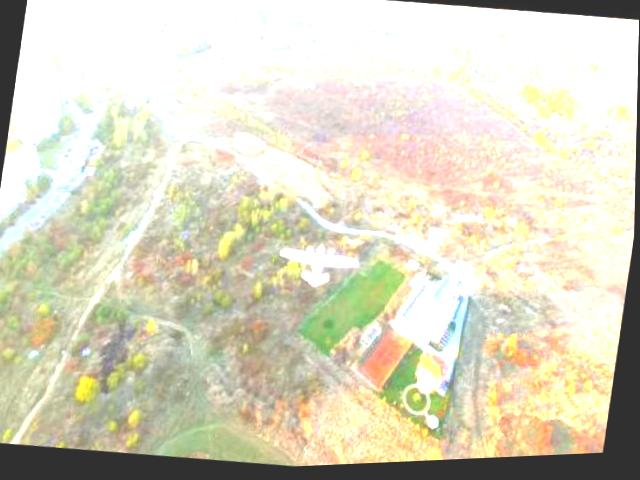uav: (271, 231, 369, 305)
